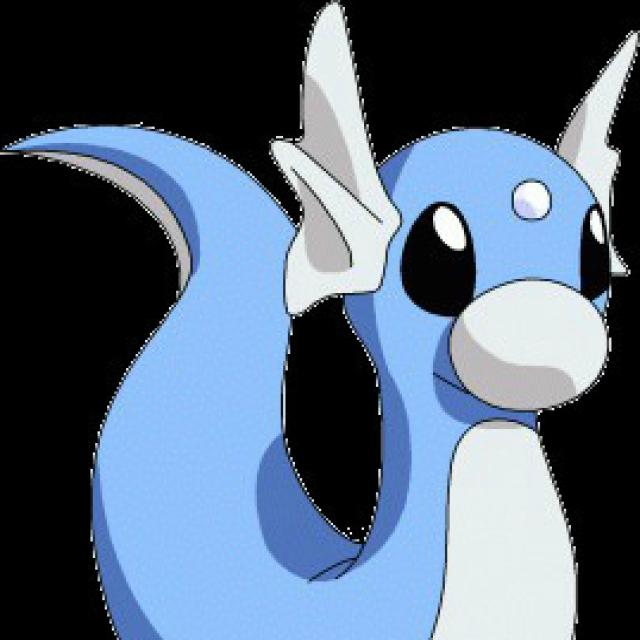Dratini: (118, 11, 640, 640)
